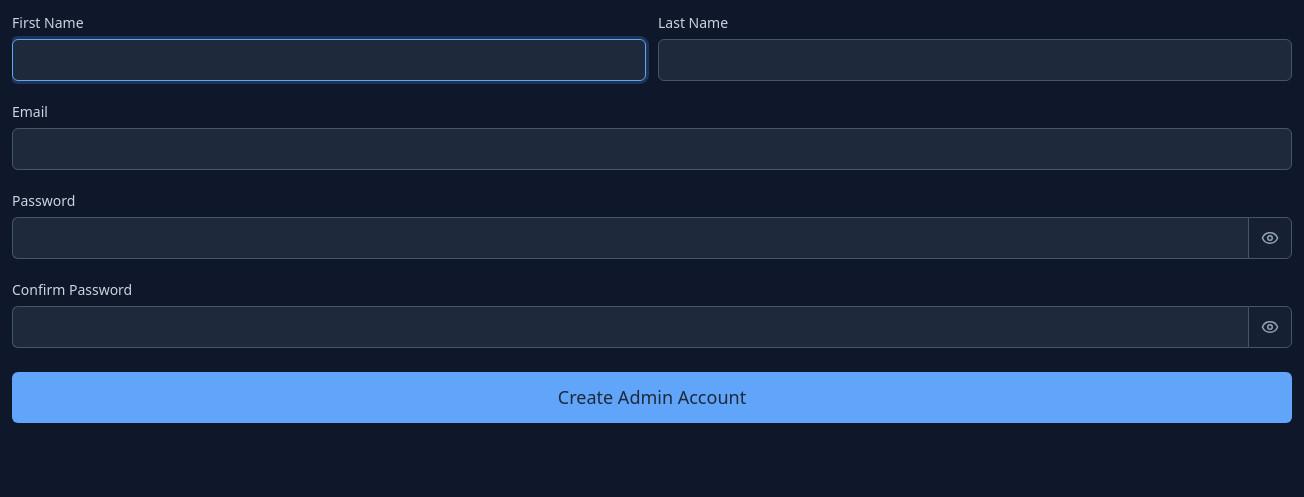
SetupForm › validation › shows confirm password mismatch error
Type "admin@test.com" into the field labelled "Email".
click(652, 149); type("admin@test.com")  # box x1=12 y1=128 x2=1292 y2=170
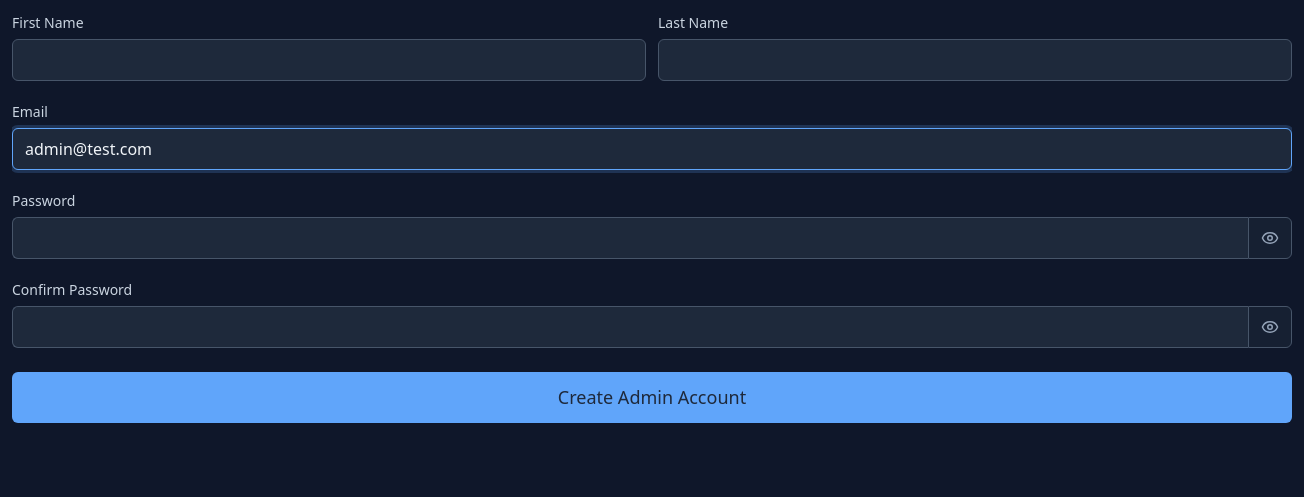
Type "Password1!" into the password field labelled "Password".
click(630, 238); type("Password1!")  # box x1=12 y1=217 x2=1248 y2=259
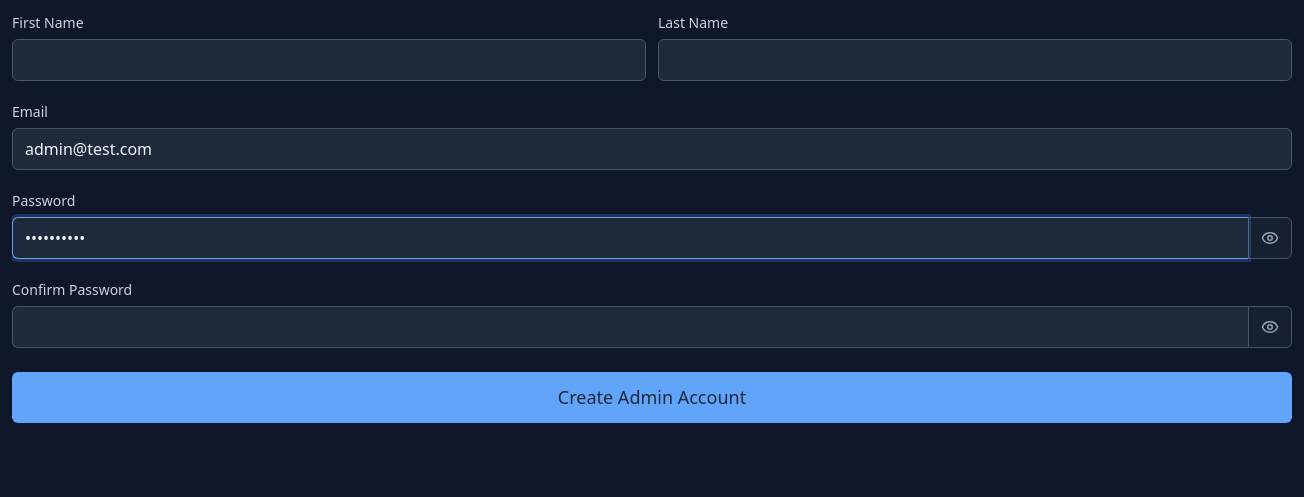
Type "Different1!" into the password field labelled "Confirm Password".
click(630, 327); type("Different1!")  # box x1=12 y1=306 x2=1248 y2=348
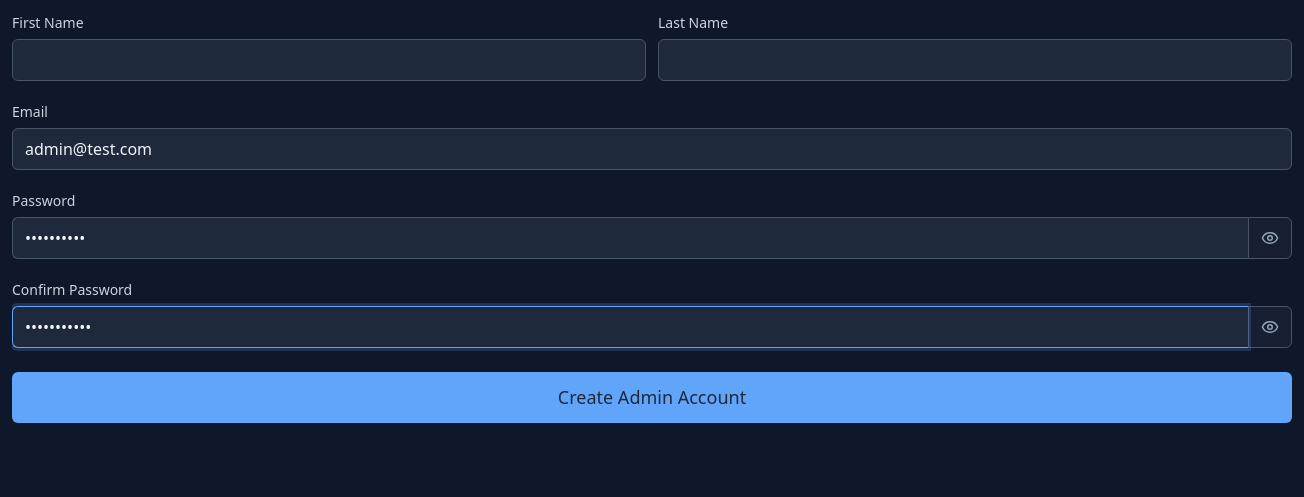
Click the button "Create Admin Account".
click(652, 398)  # box x1=12 y1=372 x2=1292 y2=423
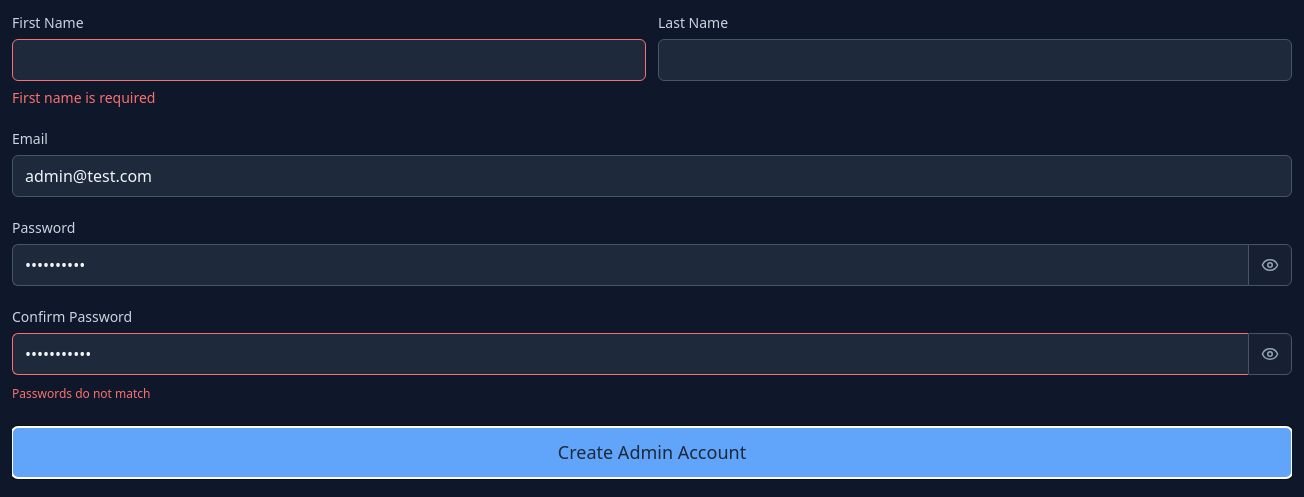
Check: the text "Passwords do not match" is shown, box x1=12 y1=385 x2=150 y2=402
